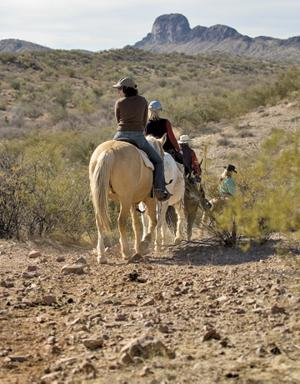person: (111, 76, 173, 205)
